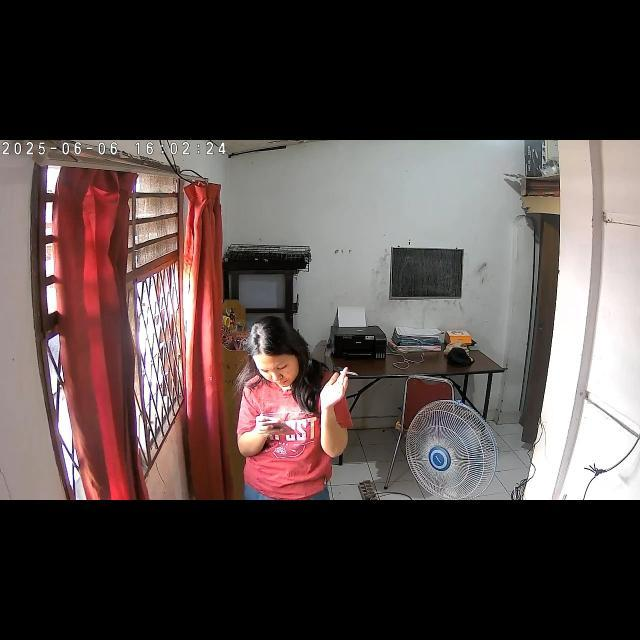rokok: (338, 369, 359, 377)
